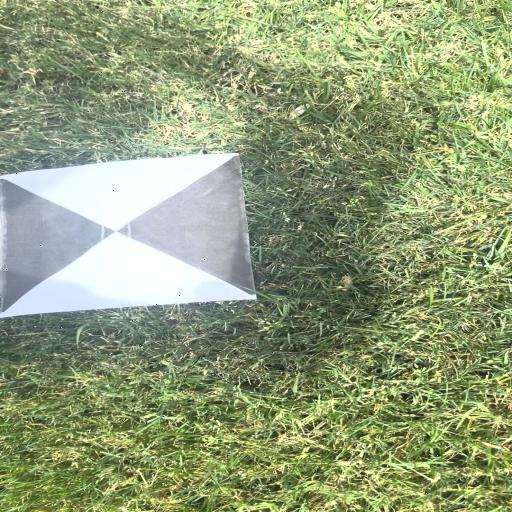target: (0, 153, 257, 317)
